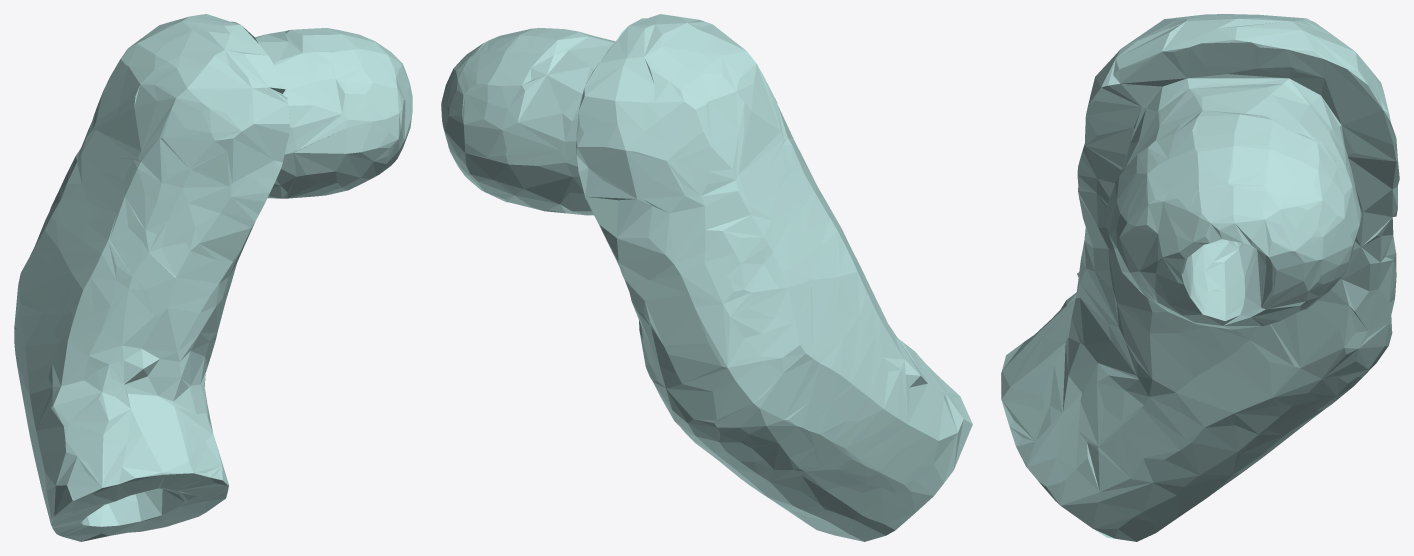
The model's file is spider-3.glb.
3 renders of one model, left to right at view 1: azimuth 30°, elevation 25°; view 2: azimuth 150°, elevation 25°; view 3: azimuth 270°, elevation 25°, orthographic. The views are drawn at different scales.
Parts seen in each view (by area): view 1: part_03; view 2: part_03; view 3: part_03.
Boxes of the visible parts, box(x1,y1,x2,y2) form: part_03: box(14, 14, 412, 541); part_03: box(441, 14, 972, 541); part_03: box(1001, 14, 1399, 541).
Bounding box in the file's own units: 0.2402 × 0.2593 × 0.161.
